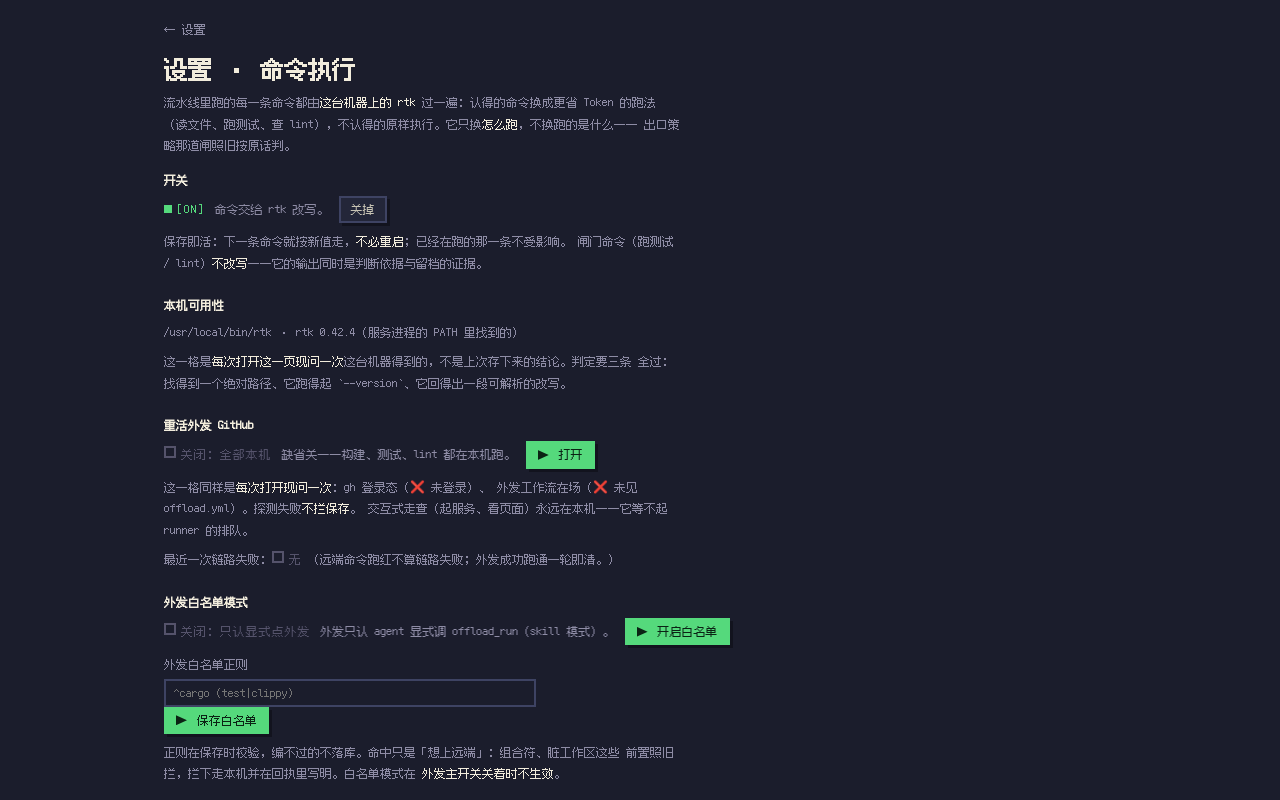
it: 命令执行页（决策 297 / 票 05） › 外发卡:探测有缺口时保存**不拦**,提示回退本机执行并留痕
What coordinates should you click on to do the following:
click the button "打开"
I would click on:
 (560, 455)
Its box is [526,442,595,469].
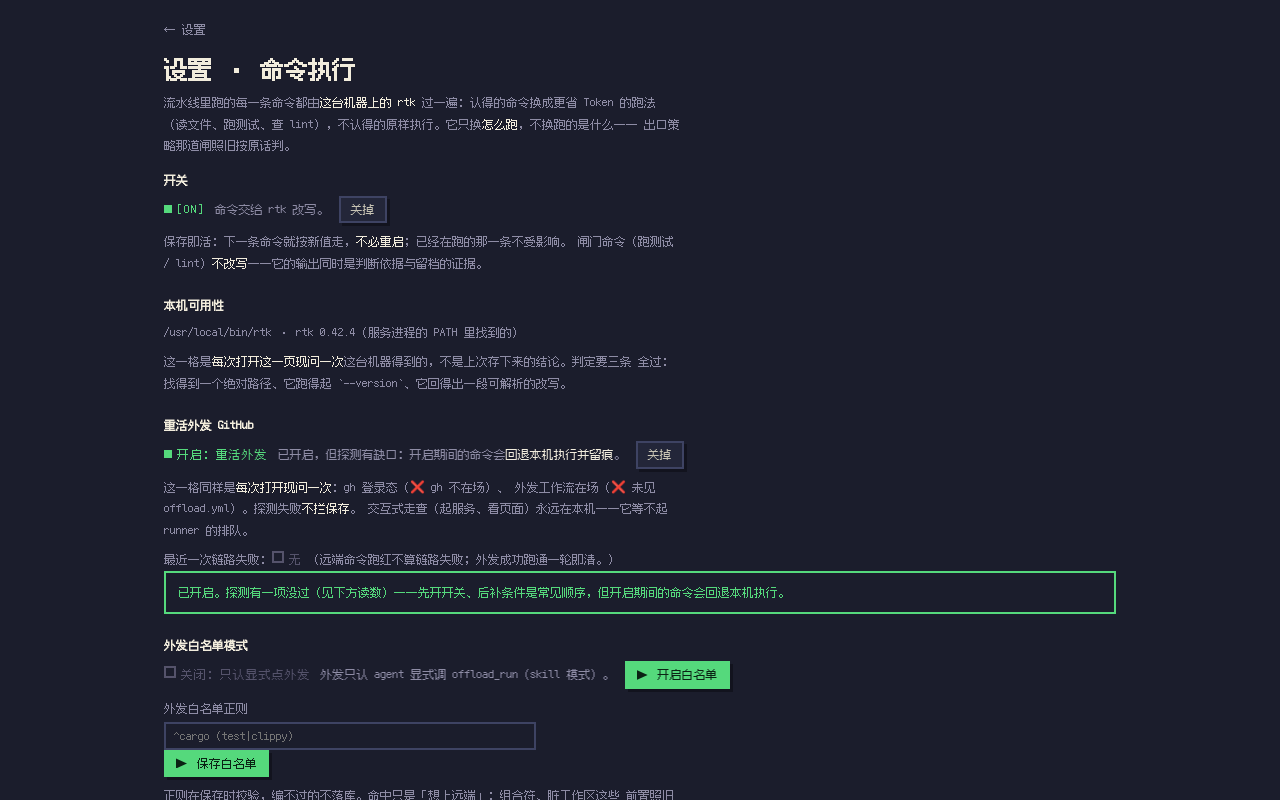
Now the text "回退本机执行并留痕" is shown, box [506,448,614,460]
